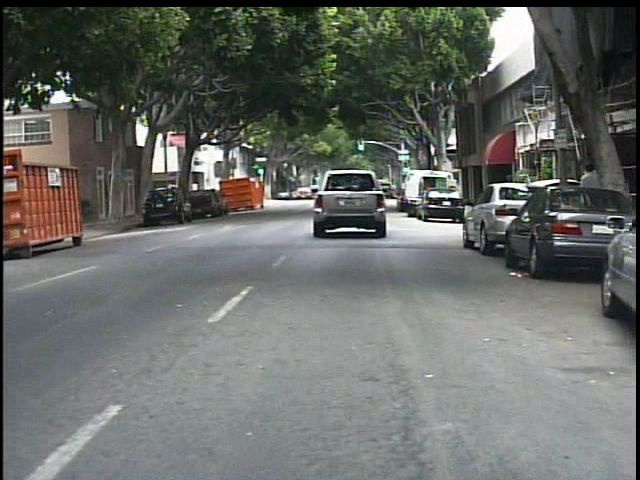person: (573, 158, 604, 240)
